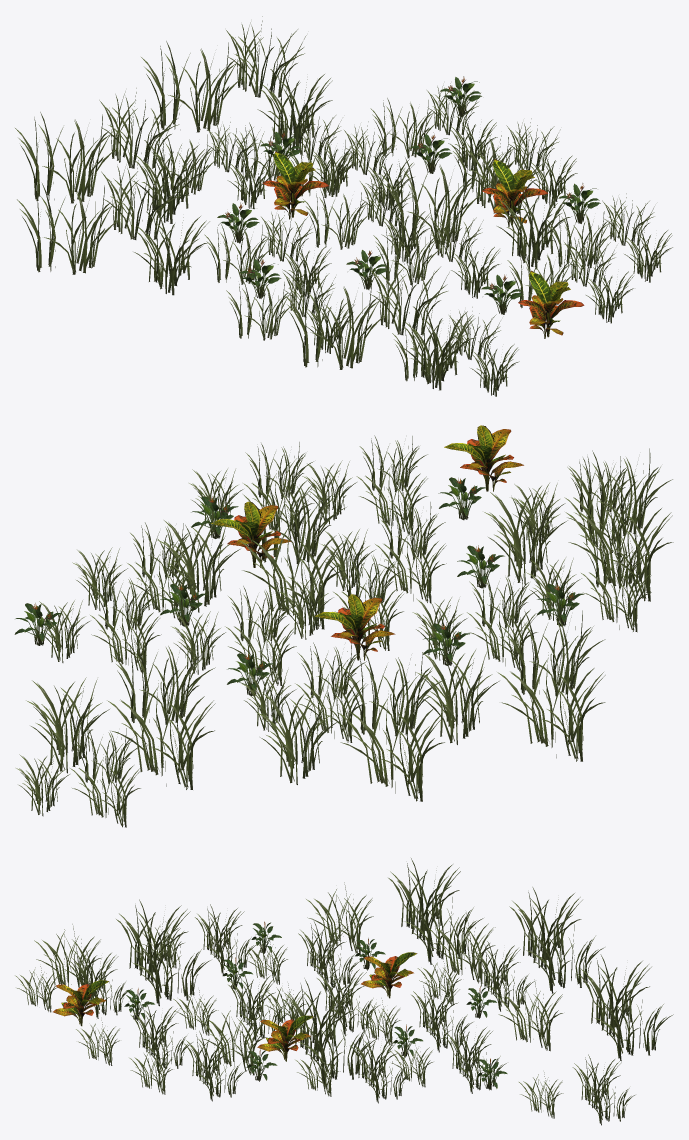
The model's file is zandi2.fbx.
The picture shows the model from 3 angles, top to bottom: view 1: azimuth 30°, elevation 25°; view 2: azimuth 150°, elevation 25°; view 3: azimuth 270°, elevation 25°; orthographic projection. The views are drawn at different scales.
Visible parts, largest first — view 1: LV_Gnollando_Foliage_CityGrass02A_PM_KJH.009; view 2: LV_Gnollando_Foliage_CityGrass02A_PM_KJH.009; view 3: LV_Gnollando_Foliage_CityGrass02A_PM_KJH.009.
Boxes of the visible parts, x1,y1,x2,y2 form: LV_Gnollando_Foliage_CityGrass02A_PM_KJH.009: [15, 16, 672, 396]; LV_Gnollando_Foliage_CityGrass02A_PM_KJH.009: [14, 425, 673, 827]; LV_Gnollando_Foliage_CityGrass02A_PM_KJH.009: [15, 858, 673, 1125].
Bounding box in the file's own units: 3.15 × 0.8112 × 4.3.
